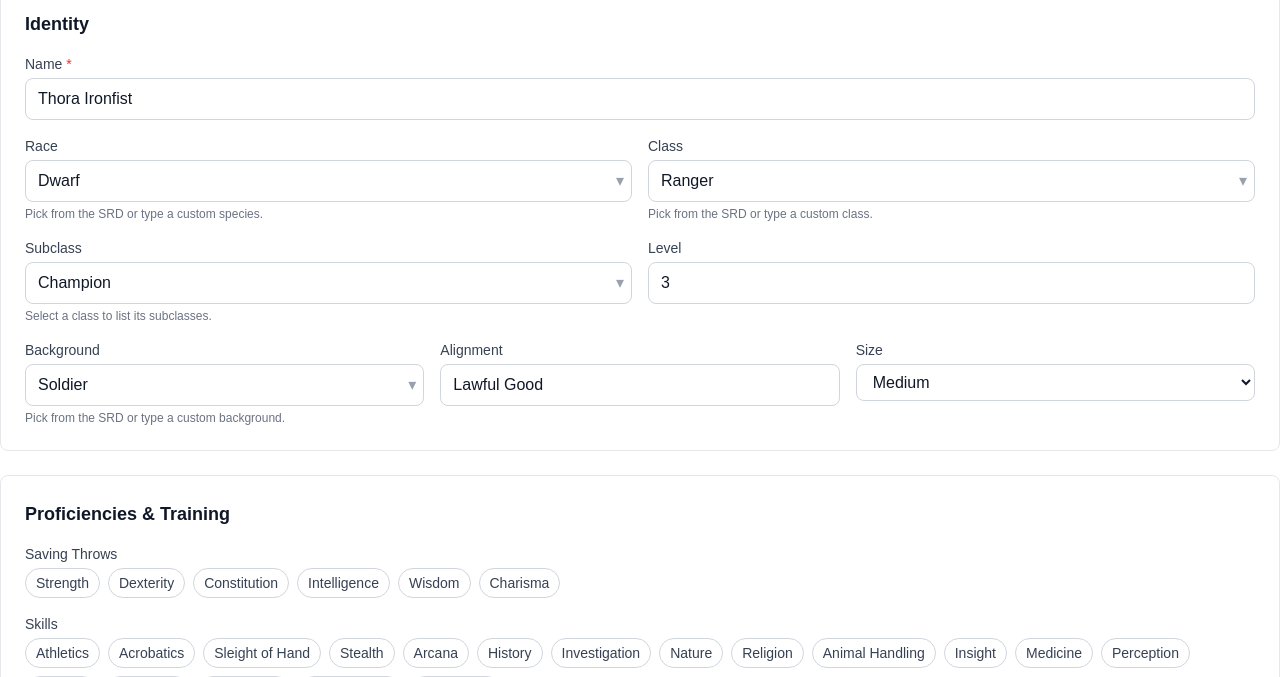
Scenario: CharacterEditorForm autofill › the Hit Die control on a sheet with no pool (VEG-530) › records at least one die when the level field is blank
Clear the number field labelled "Level" at {"x": 952, "y": 283}, box [648,262,1255,304]
(page scrolled)
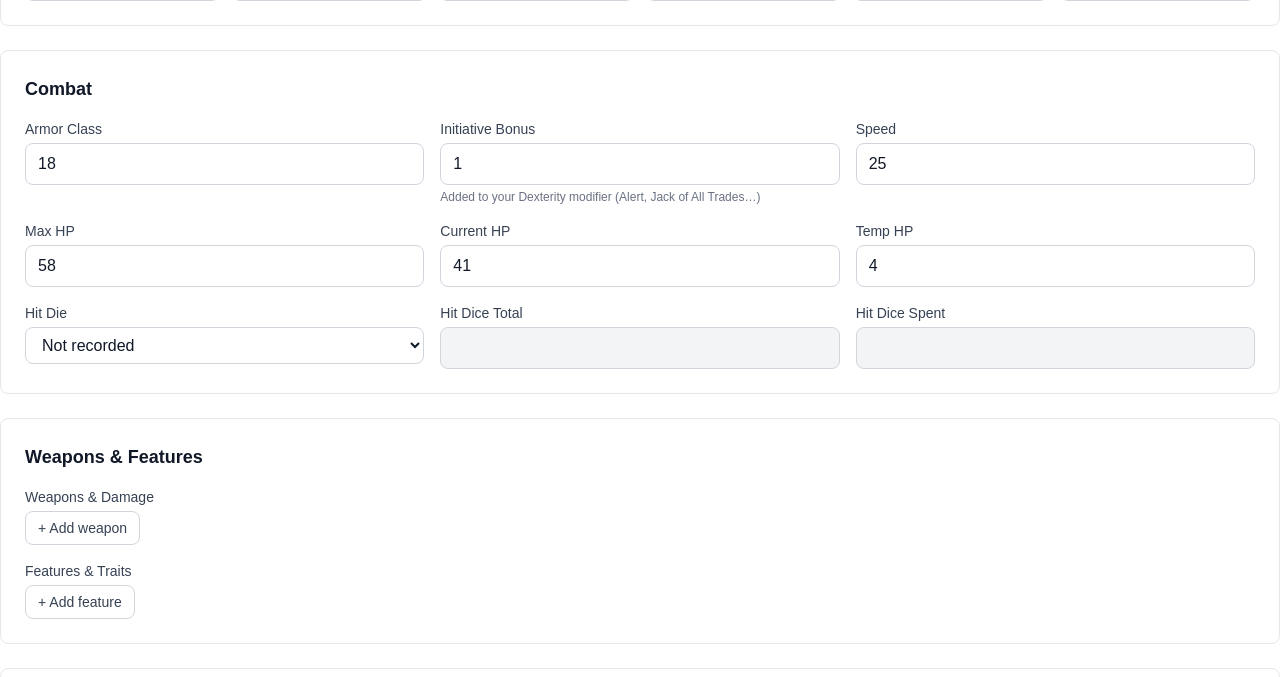
Select "d10" in the dropdown labelled "Hit Die" at {"x": 225, "y": 346}, box [25,327,424,364]
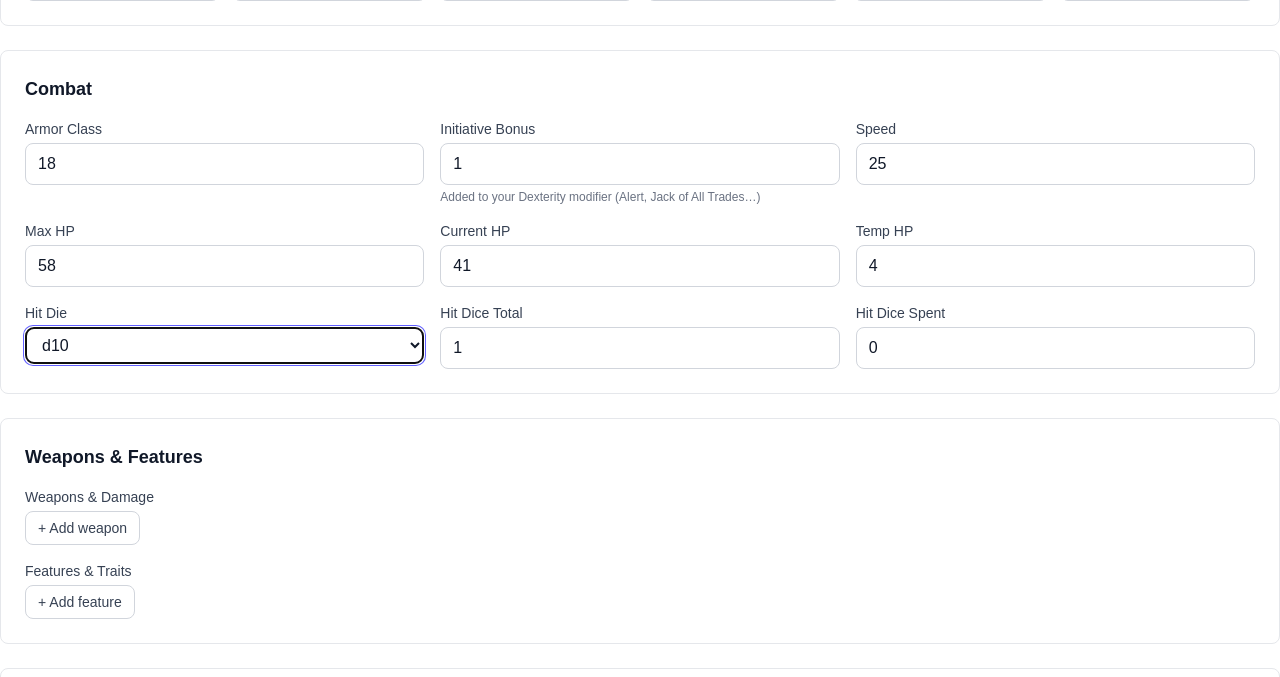
Check: the number field labelled "Hit Dice Total" holds "1", box [440,327,840,369]
